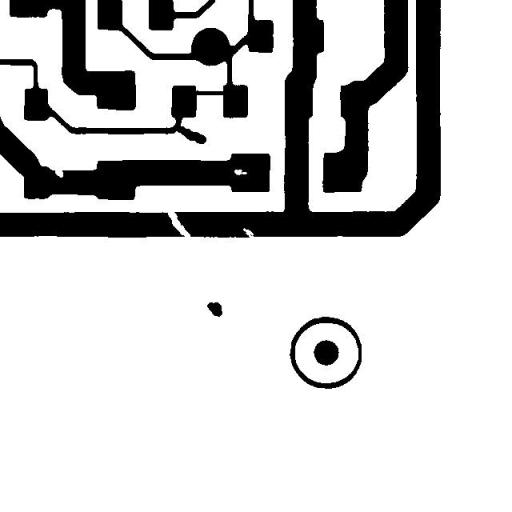copper: (199, 294, 230, 324)
mousebite: (236, 220, 262, 248), (48, 159, 70, 185)
open: (160, 202, 198, 246)
pin-hole: (226, 162, 254, 182)
short: (182, 82, 232, 102)
spur: (166, 118, 214, 152)
